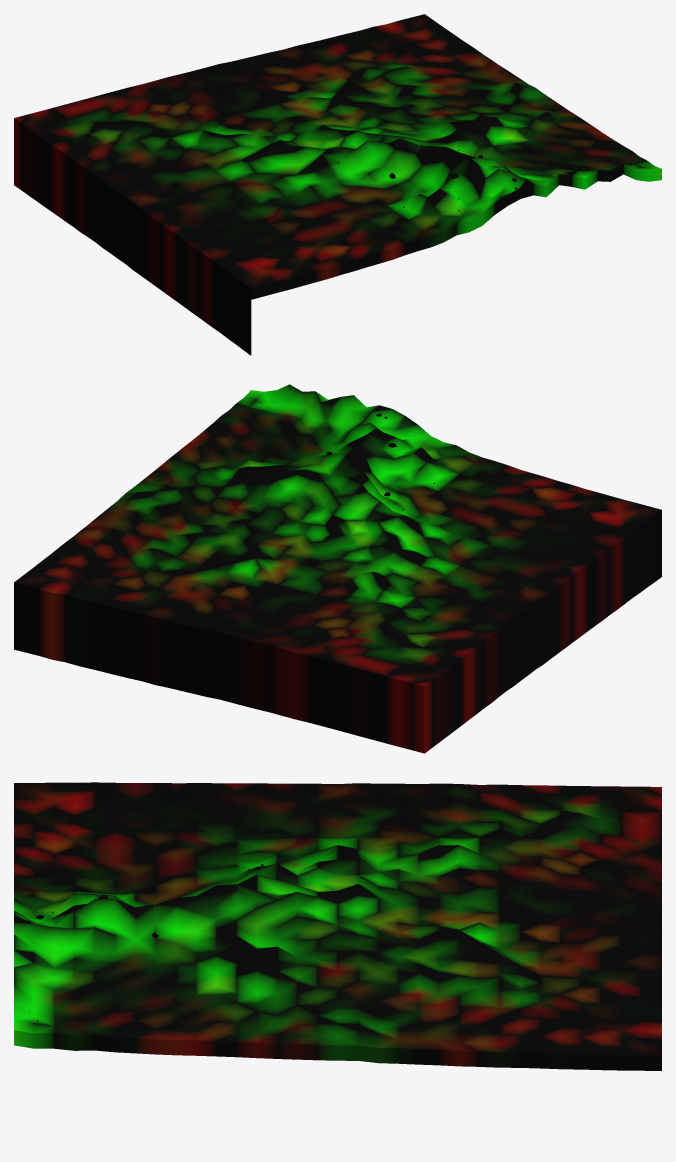
The model's file is Terrain_00_07.fbx.
The picture shows the model from 3 angles, top to bottom: view 1: azimuth 30°, elevation 25°; view 2: azimuth 150°, elevation 25°; view 3: azimuth 270°, elevation 25°; orthographic projection. The views are drawn at different scales.
Visible parts, largest first — view 1: Terrain_00_07_LOD0; view 2: Terrain_00_07_LOD0; view 3: Terrain_00_07_LOD0.
Part boxes in pixels (bbox=[...]): Terrain_00_07_LOD0: bbox=[14, 14, 661, 355]; Terrain_00_07_LOD0: bbox=[14, 384, 661, 753]; Terrain_00_07_LOD0: bbox=[14, 782, 661, 1070].
Size of what is drawn, in the model's own units: 384 by 98.93 by 384.
